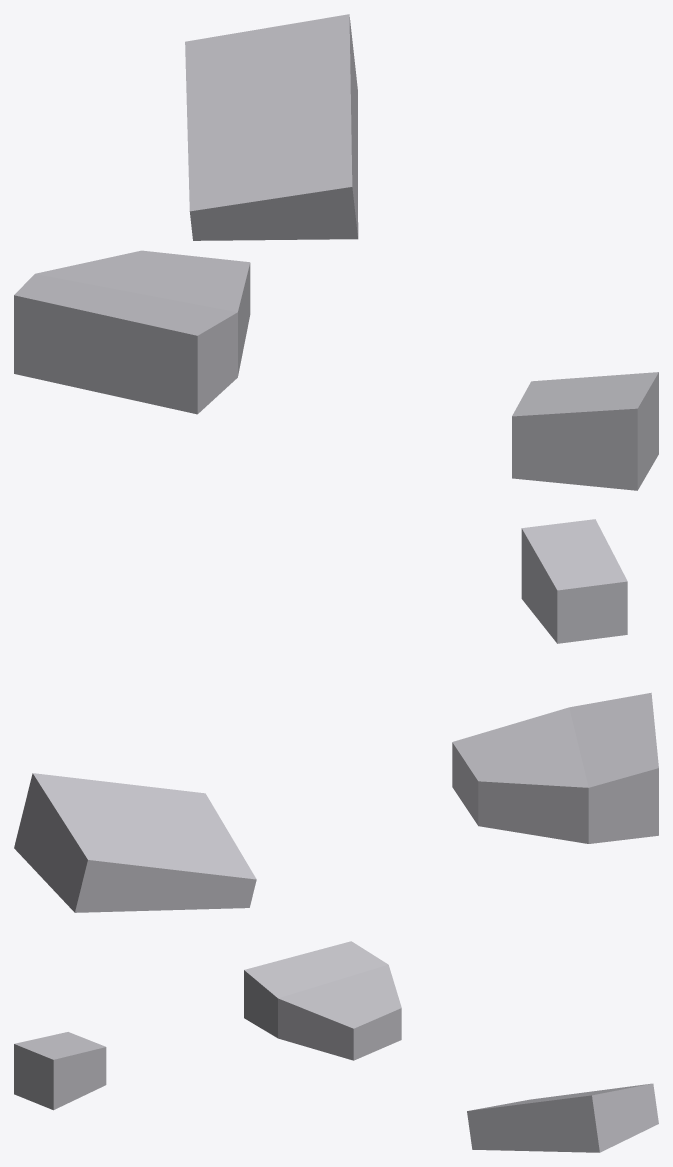
File: Rock_Blocks_s_05.fbx
The picture shows the model from 3 angles, top to bottom: view 1: azimuth 30°, elevation 25°; view 2: azimuth 150°, elevation 25°; view 3: azimuth 270°, elevation 25°; orthographic projection. The views are drawn at different scales.
Parts seen in each view (by area): view 1: Rock_Blocks_s_05; view 2: Rock_Blocks_s_05; view 3: Rock_Blocks_s_05.
Part boxes in pixels (bbox=[...]): Rock_Blocks_s_05: bbox=[14, 14, 658, 490]; Rock_Blocks_s_05: bbox=[14, 519, 658, 912]; Rock_Blocks_s_05: bbox=[14, 941, 658, 1152].
Bounding box in the file's own units: 31.58 × 7.83 × 52.59.
